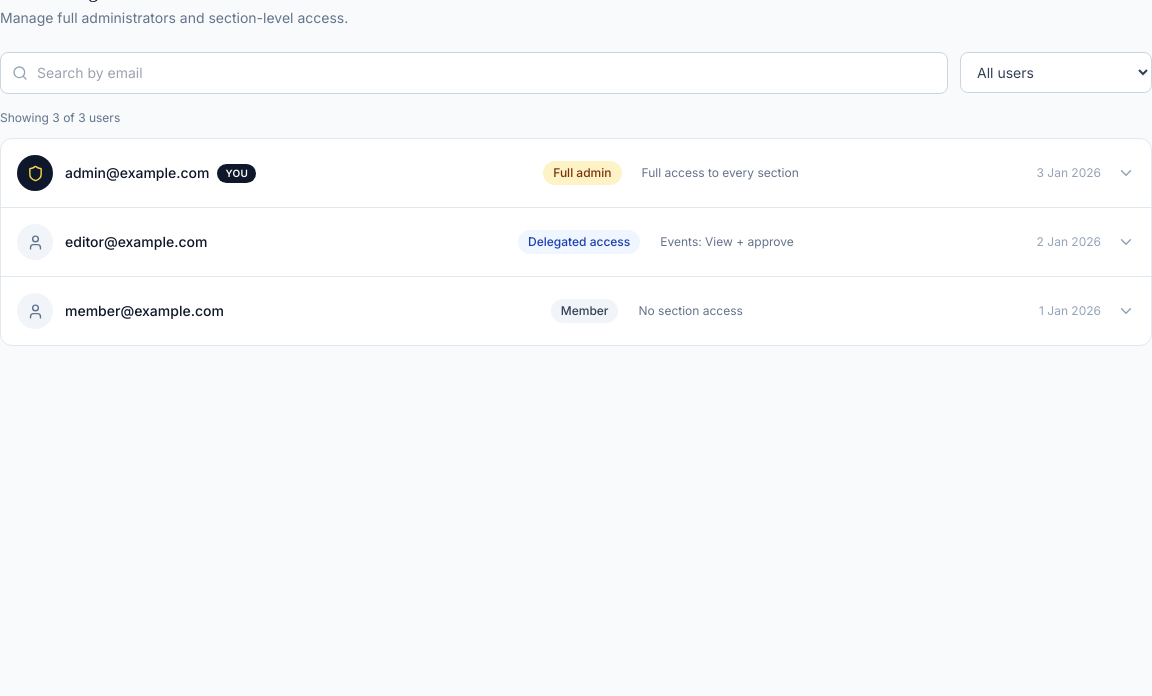
Test: AdminUsersPage › stages section changes and saves them together
Click the button with aria-label "Manage access for member@example.com" at (576, 311), box x1=1 y1=277 x2=1151 y2=345
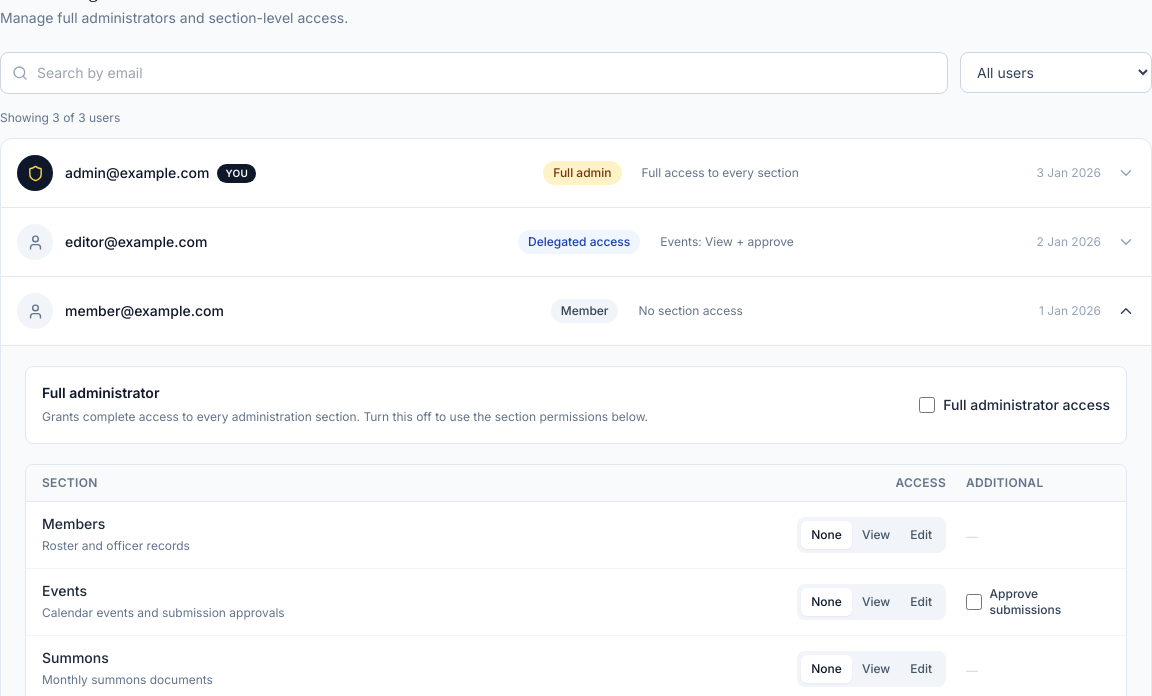
Click the radio button with aria-label "Edit Members" at (921, 534), box x1=910 y1=527 x2=932 y2=542
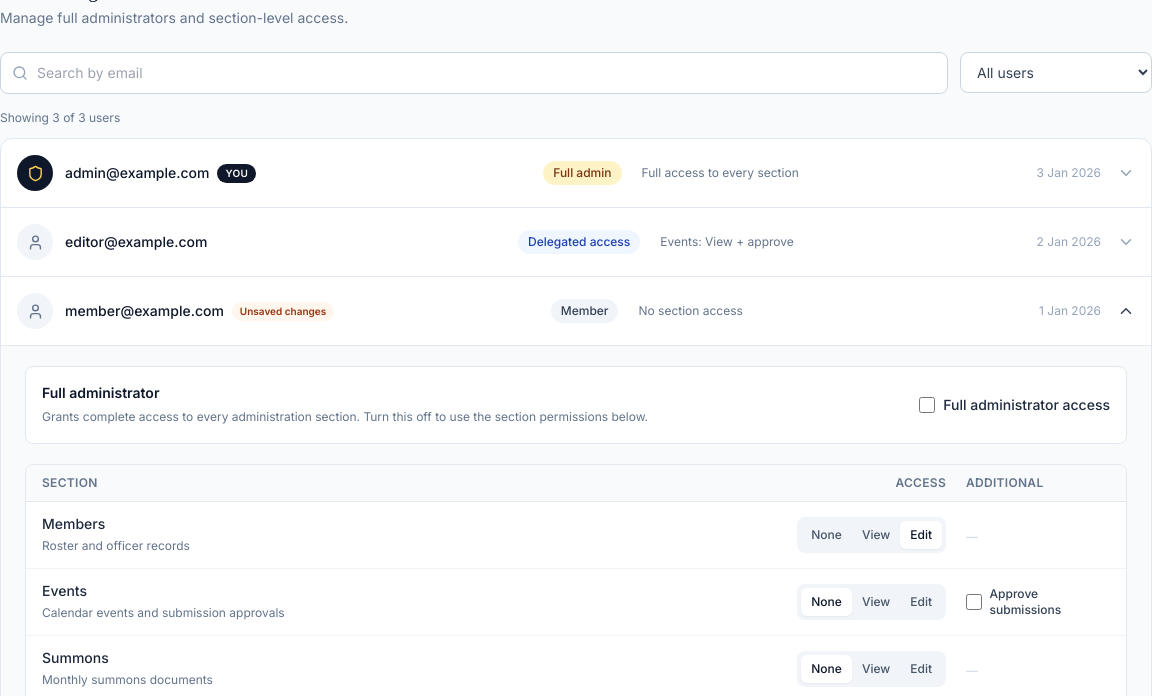
Click the checkbox labelled "Approve submissions" at (974, 602), box x1=966 y1=594 x2=982 y2=610
(page scrolled)
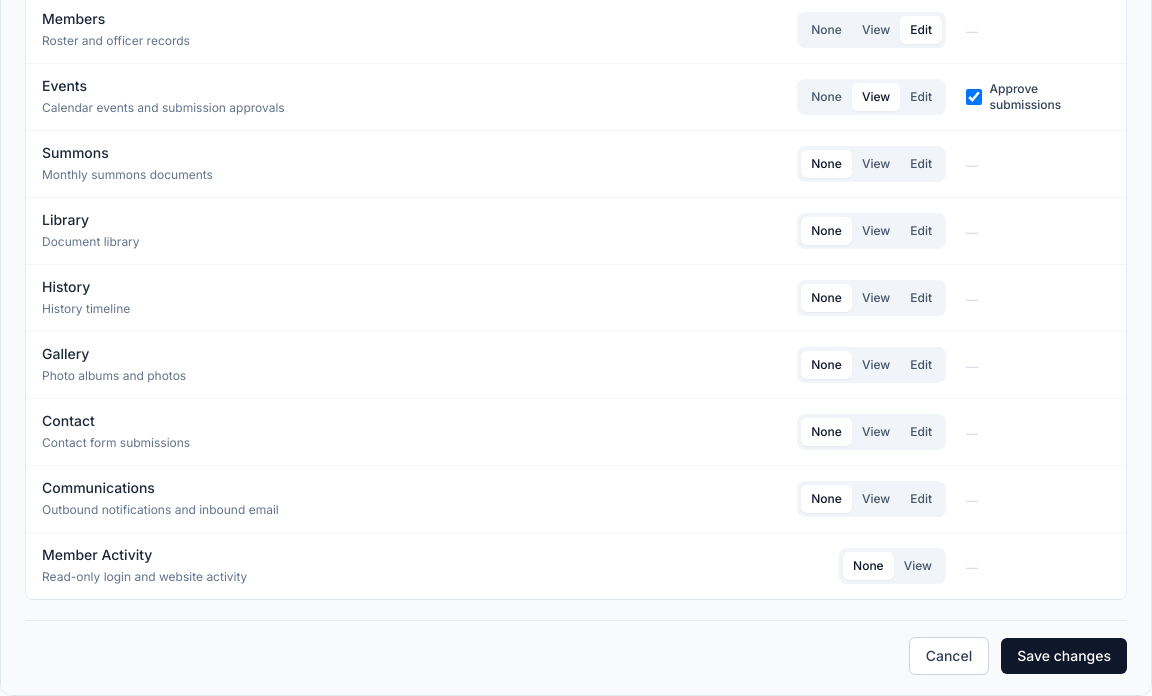
Click the button "Save changes" at (1064, 656), box x1=1001 y1=638 x2=1127 y2=674
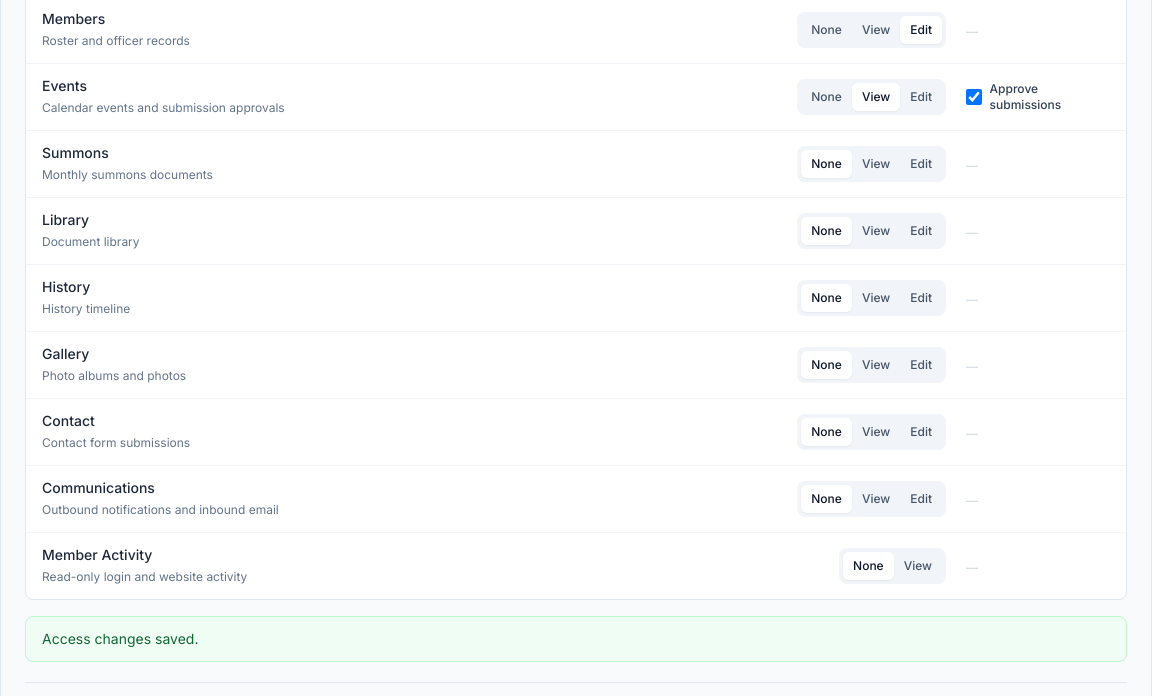
Expected: the message reads "Access changes saved.", x1=42 y1=630 x2=198 y2=647
